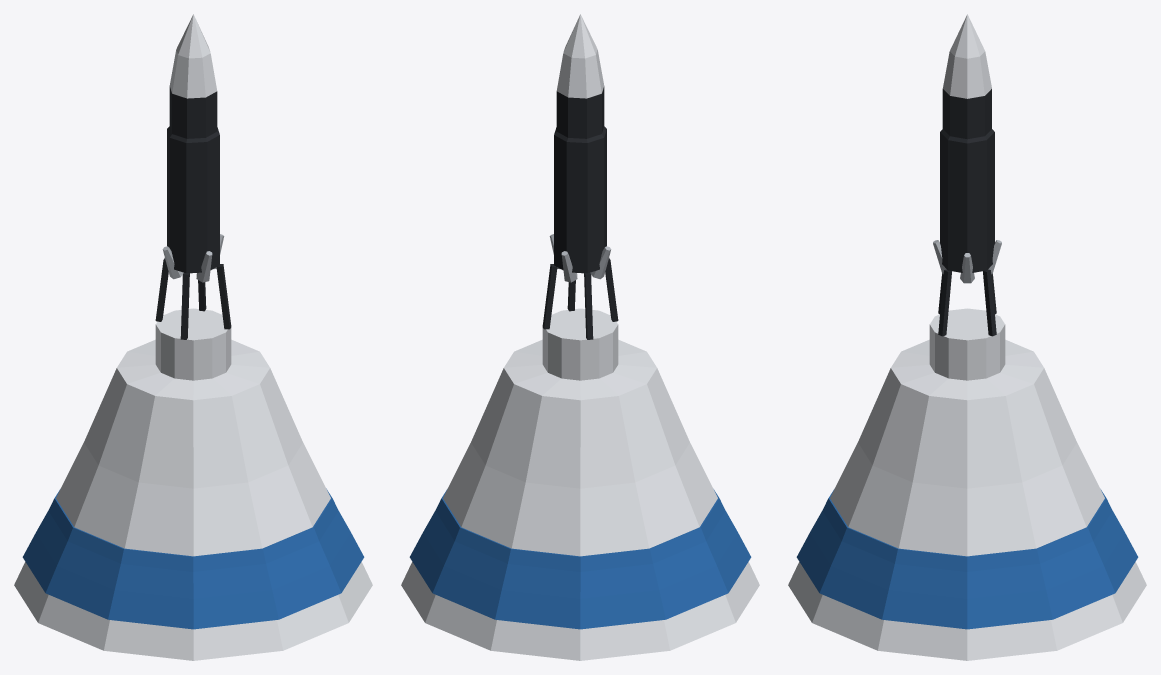
Rendered from escape_tower.glb.
3 views of the same model, side by side, from view 1: azimuth 30°, elevation 25°; view 2: azimuth 150°, elevation 25°; view 3: azimuth 270°, elevation 25° (orthographic).
Parts seen in each view (by area): view 1: escape_tower__White, escape_tower__Accent, escape_tower__Dark, escape_tower__Silver; view 2: escape_tower__White, escape_tower__Accent, escape_tower__Dark, escape_tower__Silver; view 3: escape_tower__White, escape_tower__Accent, escape_tower__Dark, escape_tower__Silver.
Part boxes in pixels (<box>): escape_tower__White: <box>14,14,372,660</box>; escape_tower__Accent: <box>22,488,364,629</box>; escape_tower__Dark: <box>155,86,231,339</box>; escape_tower__Silver: <box>162,234,224,282</box>; escape_tower__White: <box>401,14,759,660</box>; escape_tower__Accent: <box>409,490,751,629</box>; escape_tower__Dark: <box>542,86,618,339</box>; escape_tower__Silver: <box>549,234,611,282</box>; escape_tower__White: <box>788,14,1146,660</box>; escape_tower__Accent: <box>796,490,1138,629</box>; escape_tower__Dark: <box>938,89,996,336</box>; escape_tower__Silver: <box>933,240,1001,283</box>.
Bounding box in the file's own units: 5.24 × 9.2 × 5.24.
